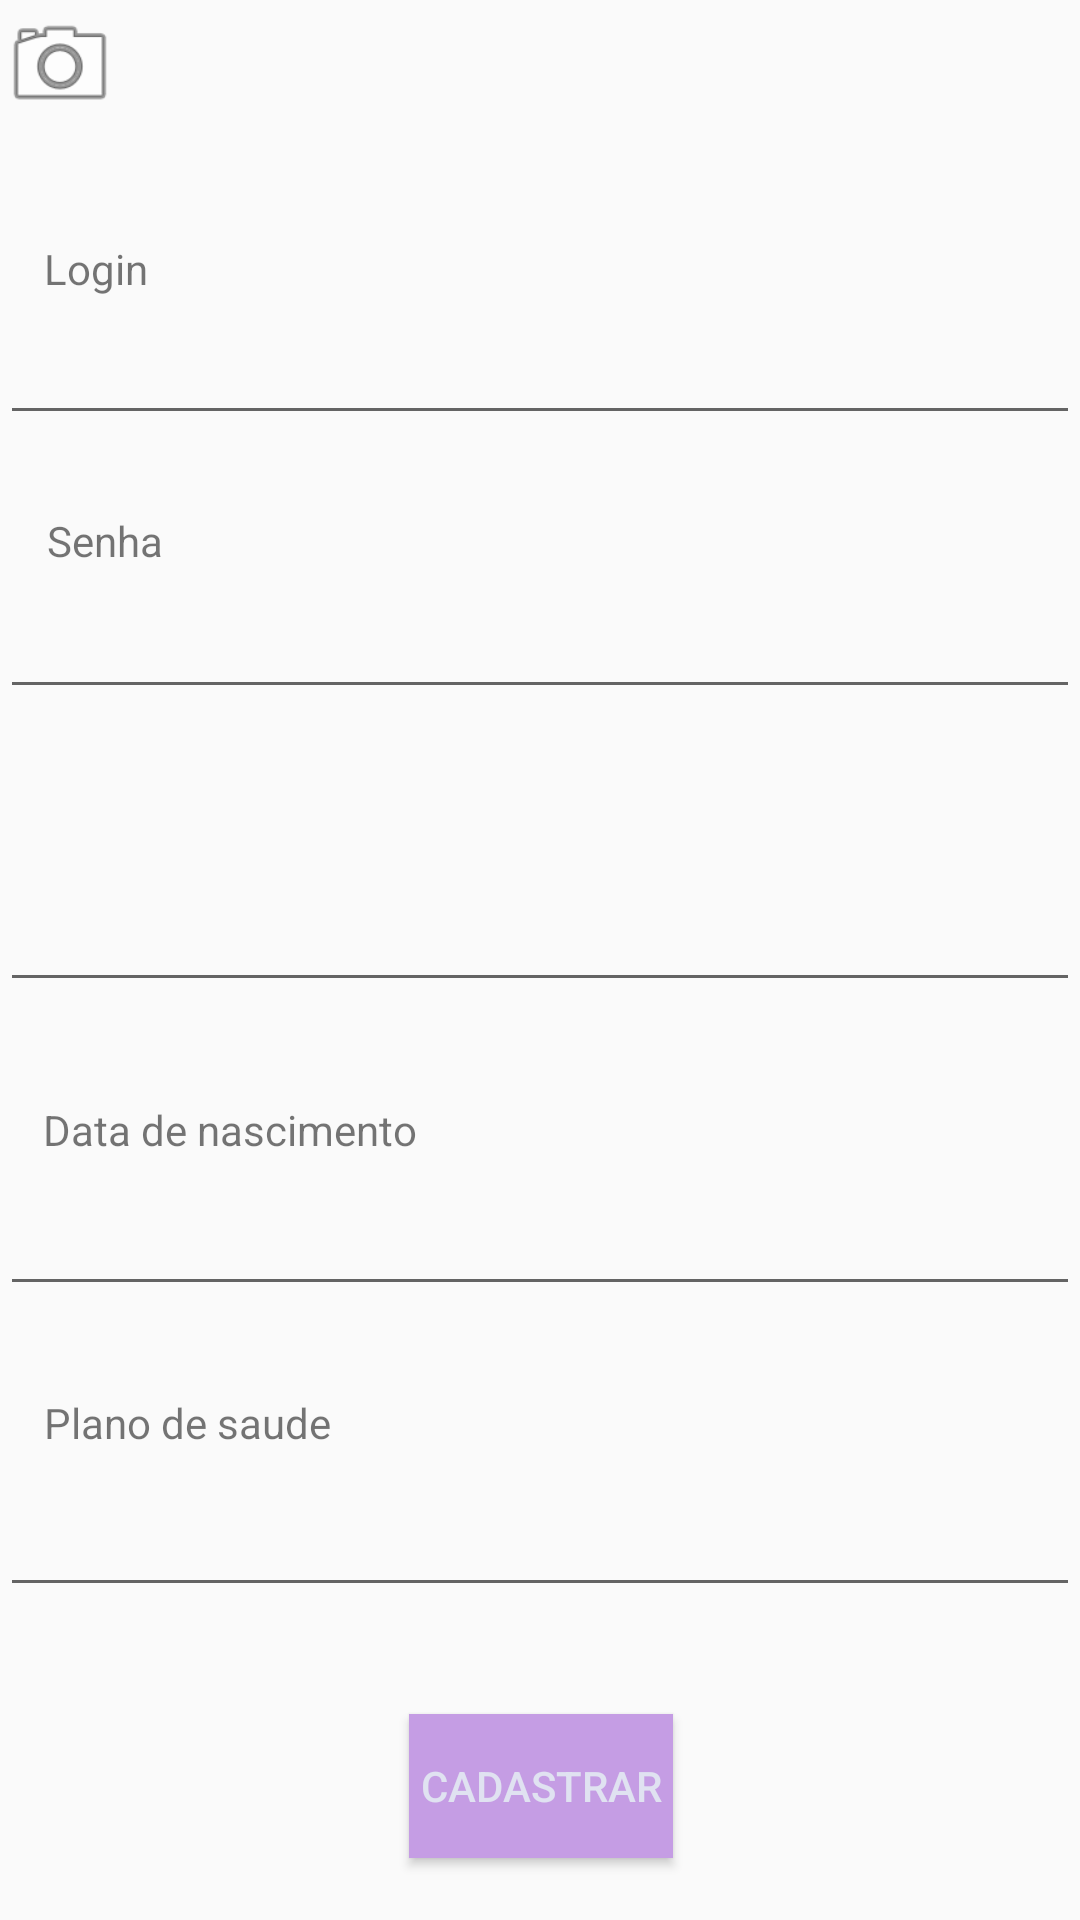

Where icons sit on this 1080 × 1920 app screen, as [x1,y1,x2,y2]:
camera: [14,26,106,100]
